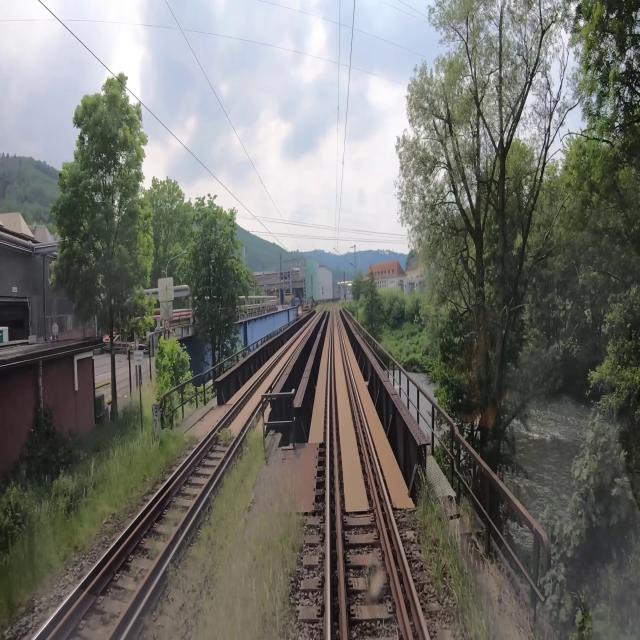Plant: (140, 410, 308, 639), (148, 497, 182, 560), (420, 533, 447, 599), (218, 424, 235, 446)
